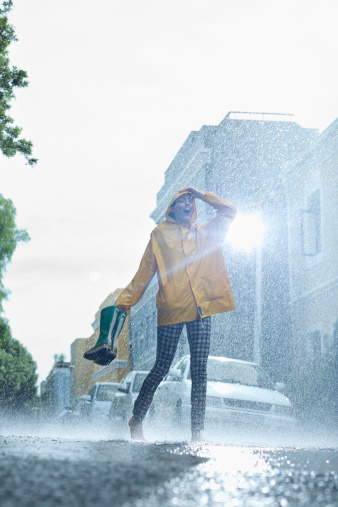em pe: (95, 177, 249, 417)
